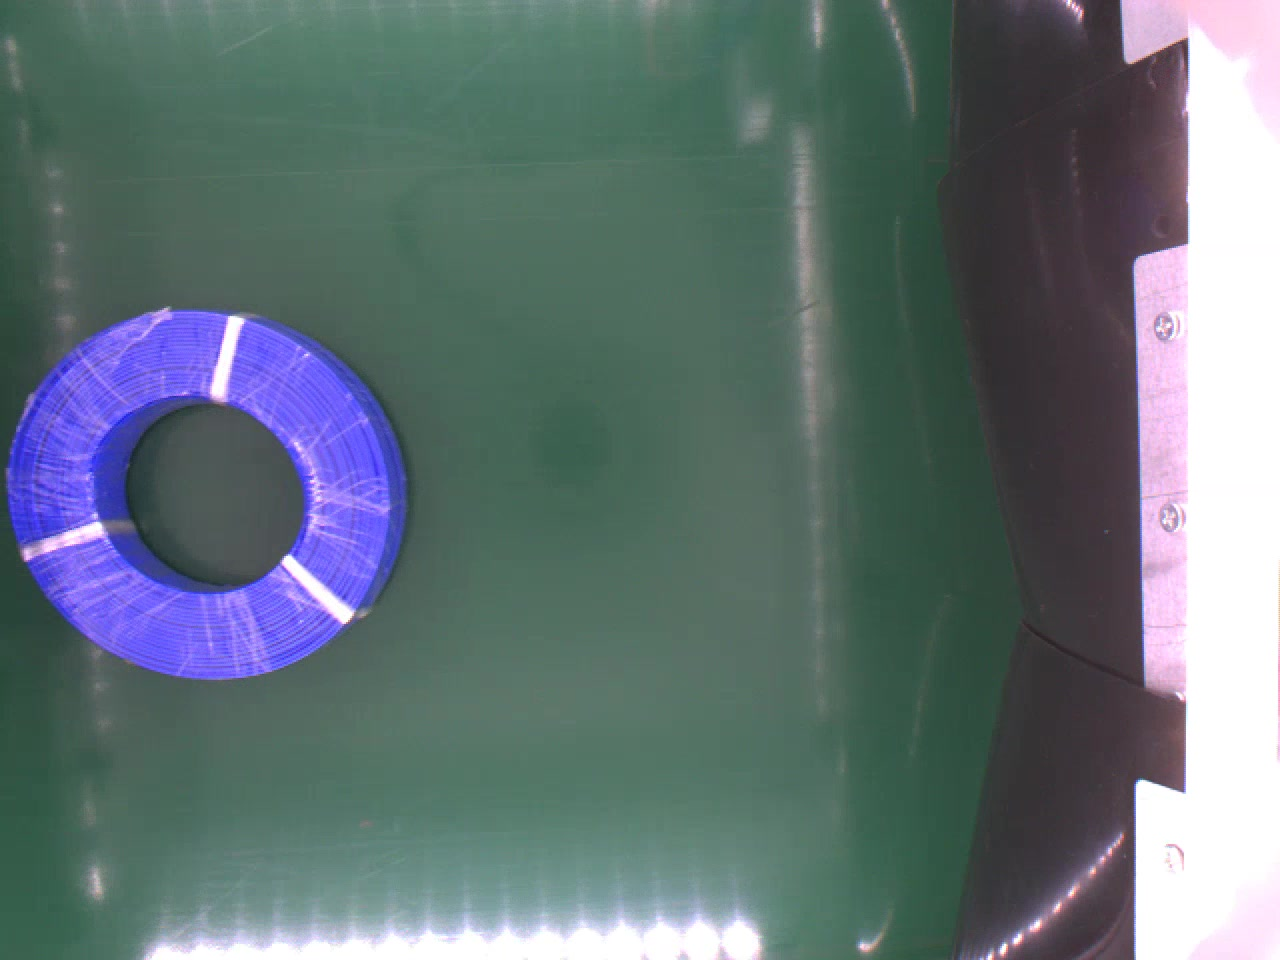blue: (6, 299, 409, 686)
